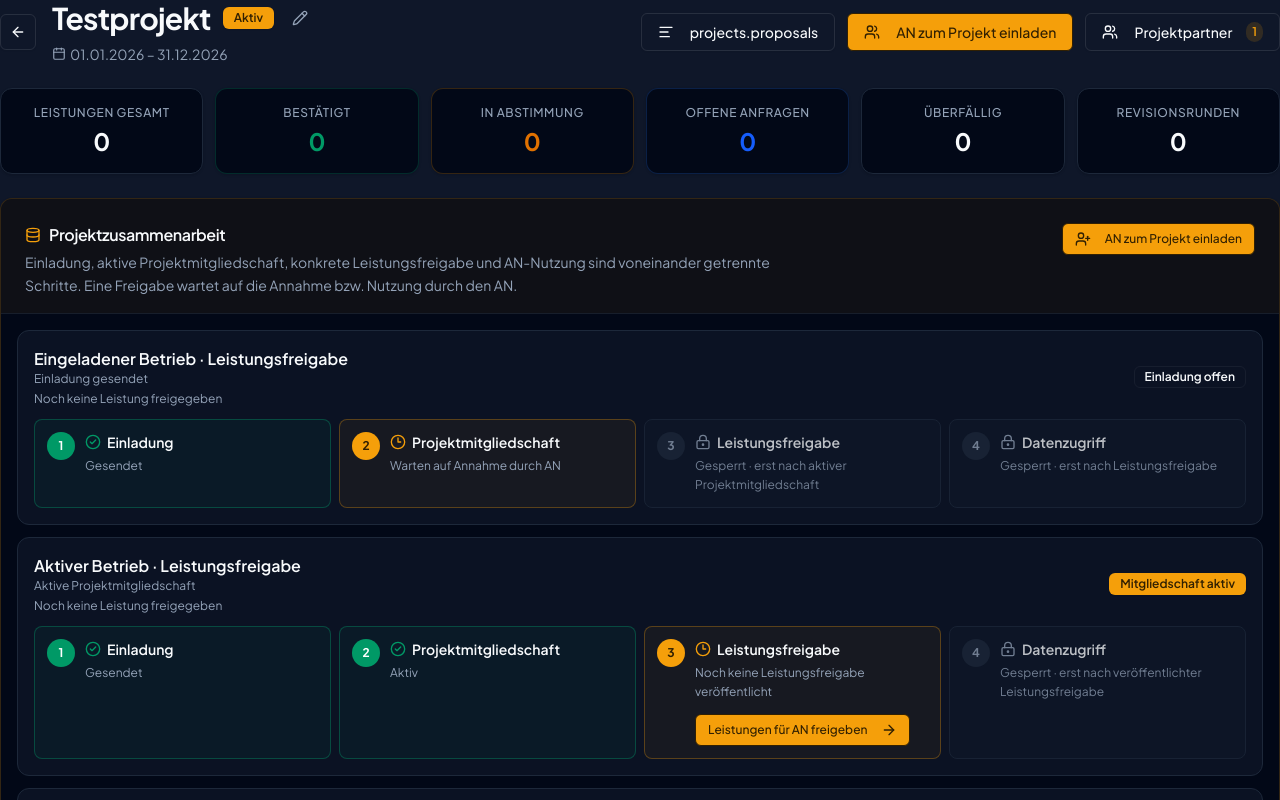
Test: project participant directory membership lifecycle › renders the German label for every membership state
The image size is (1280, 800).
Click the button "Projektpartner 1" at [1183, 32], box [1085,13,1279,51]
(page scrolled)
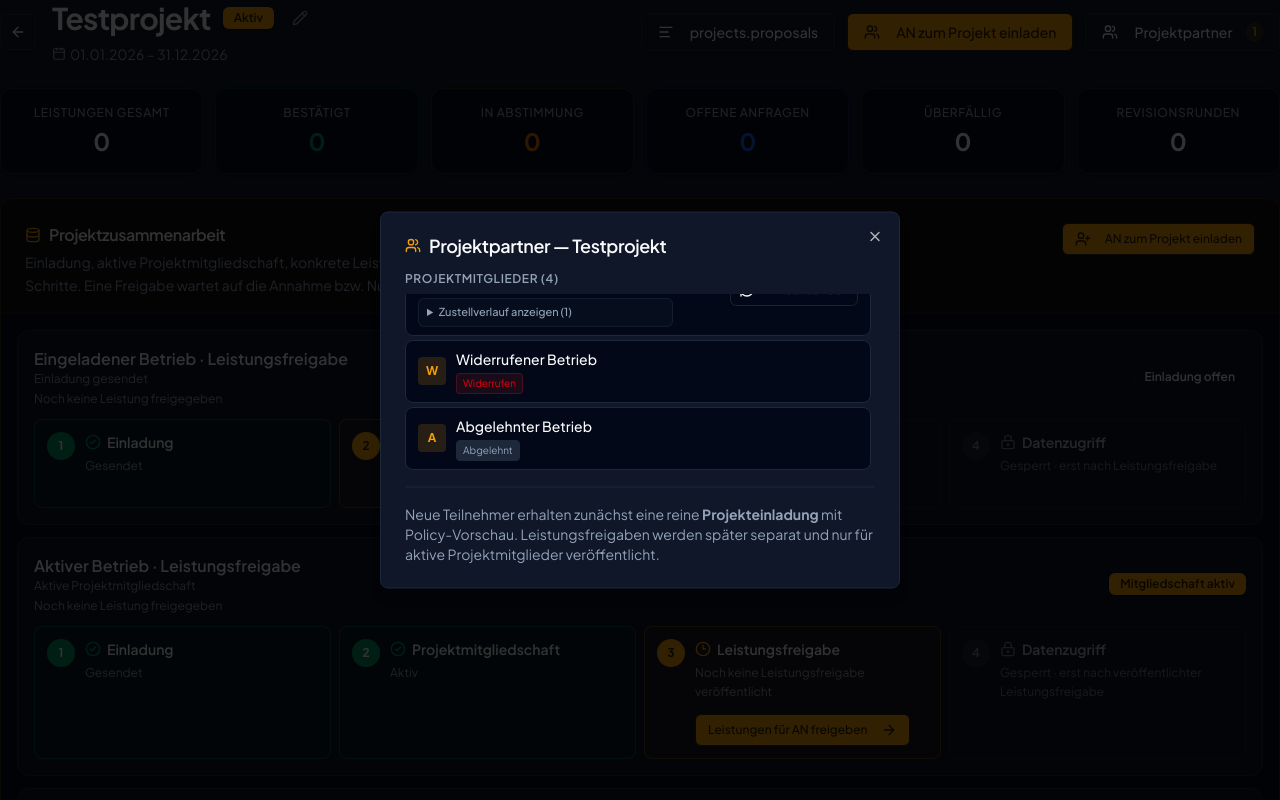
Expected: the text "Widerrufen" is shown, [456,373,523,394]
Expected: the text "Abgelehnt" is shown, [456,440,520,461]
